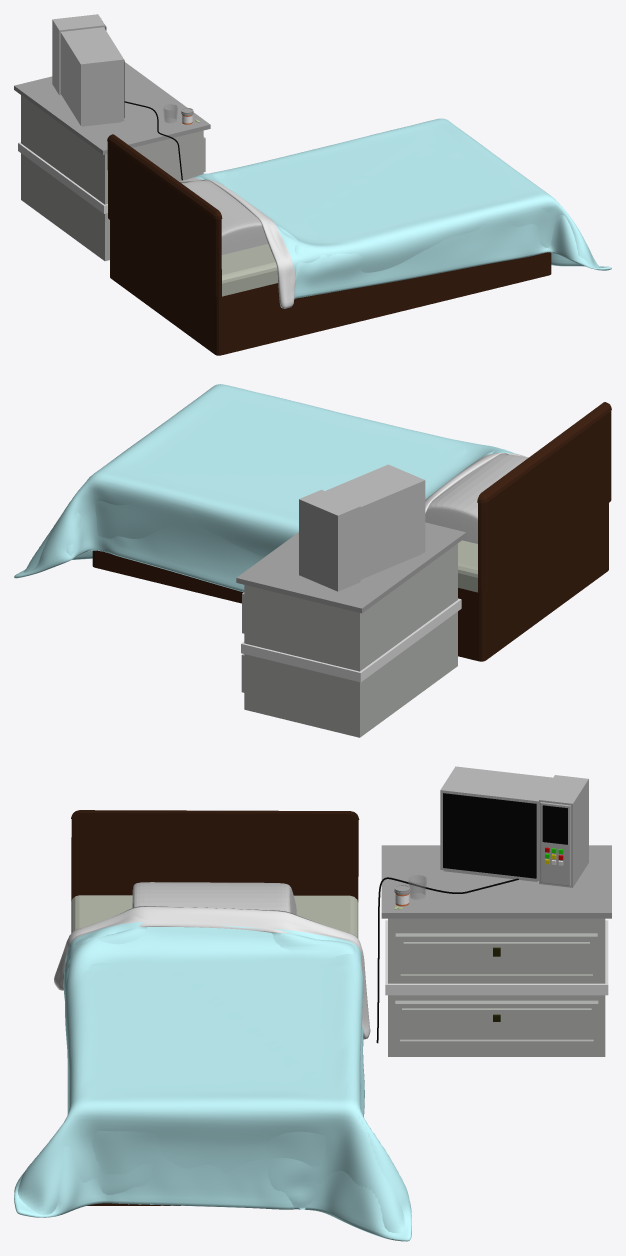
File: bed room.fbx
The picture shows the model from 3 angles, top to bottom: view 1: azimuth 30°, elevation 25°; view 2: azimuth 150°, elevation 25°; view 3: azimuth 270°, elevation 25°; orthographic projection. The views are drawn at different scales.
Parts seen in each view (by area): view 1: 平面, Cube, 立方体.001, 立方体.005, 立方体; view 2: 平面, 立方体.001, Cube, 立方体.005, 立方体; view 3: 平面, 立方体.001, Cube, 立方体.005, 立方体, 贝塞尔曲线.
Part boxes in pixels (left/top/right/bottom): 平面: left=179, top=118, right=611, bottom=308; Cube: left=107, top=134, right=551, bottom=355; 立方体.001: left=14, top=62, right=210, bottom=261; 立方体.005: left=52, top=14, right=124, bottom=126; 立方体: left=182, top=180, right=268, bottom=254; 平面: left=14, top=384, right=528, bottom=592; 立方体.001: left=236, top=522, right=466, bottom=737; Cube: left=92, top=402, right=611, bottom=661; 立方体.005: left=299, top=464, right=425, bottom=591; 立方体: left=425, top=454, right=527, bottom=543; 平面: left=14, top=906, right=411, bottom=1241; 立方体.001: left=381, top=845, right=611, bottom=1056; Cube: left=71, top=810, right=359, bottom=1205; 立方体.005: left=440, top=766, right=588, bottom=887; 立方体: left=132, top=882, right=296, bottom=914; 贝塞尔曲线: left=376, top=877, right=518, bottom=1043.
Size of the model in its own units: 1361 by 641 by 1421.
